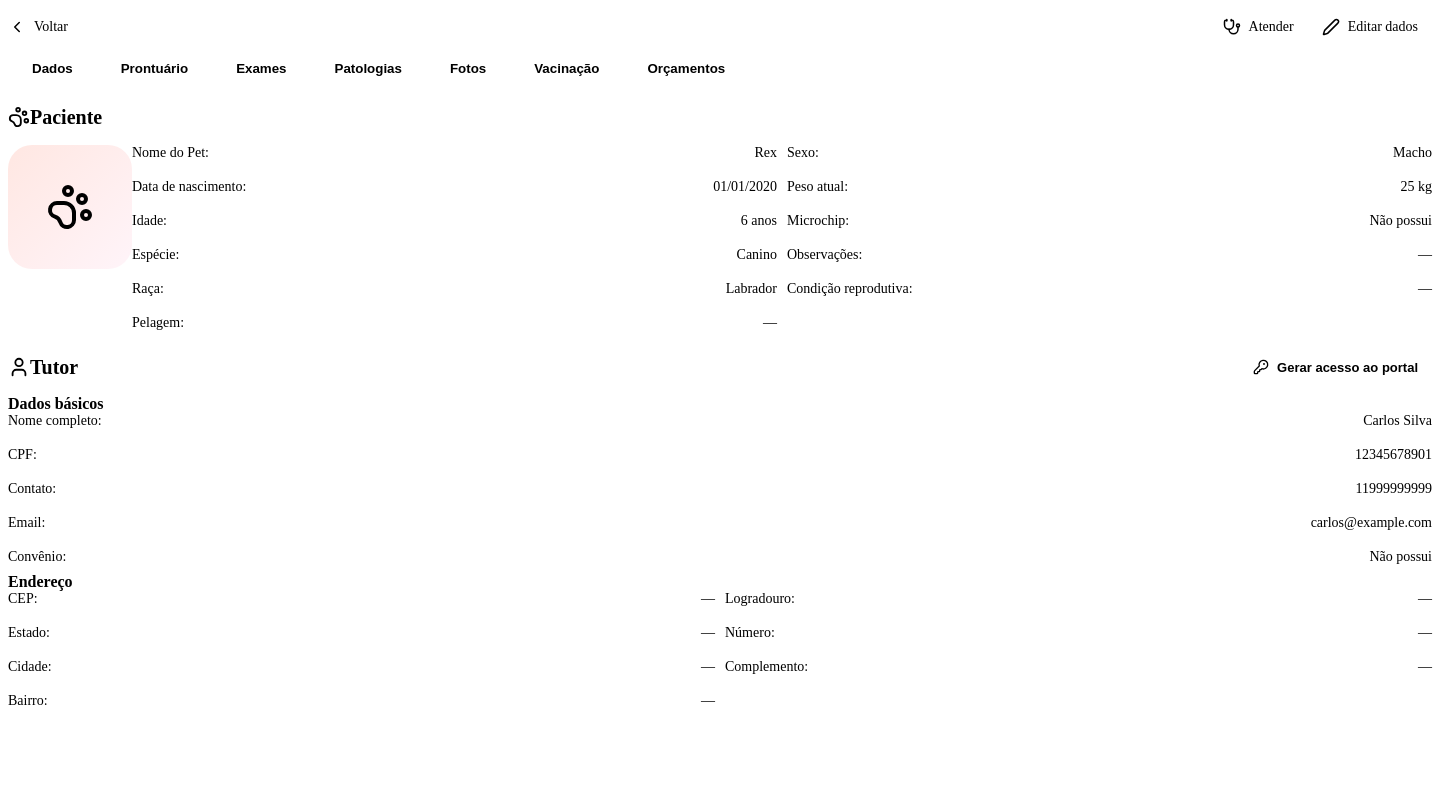
Test case: PatientDetailsPage — Aba Exames e Classificação Clínica › filtra a lista de exames pelo tipo selecionado no dropdown
Expected: the text "Rex" is shown, [754,145,777,161]
// Click on "Exames" tab
Click the button "Exames".
click(261, 68)  # box [212,47,310,90]
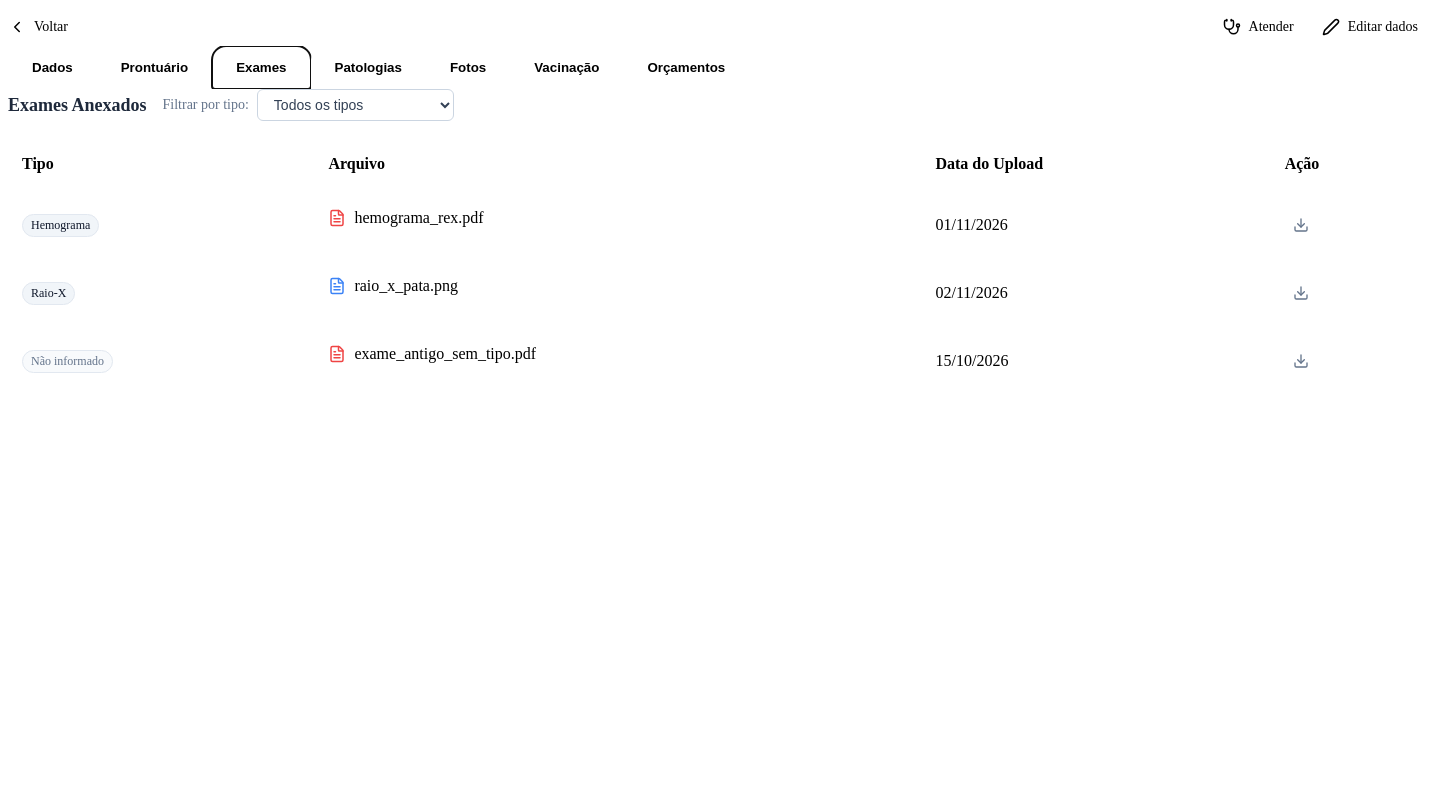
// Filter by HEMOGRAMA
Select "Hemograma" in the dropdown named "Filtrar por tipo de exame" at (355, 105), box [257,89,454,121]
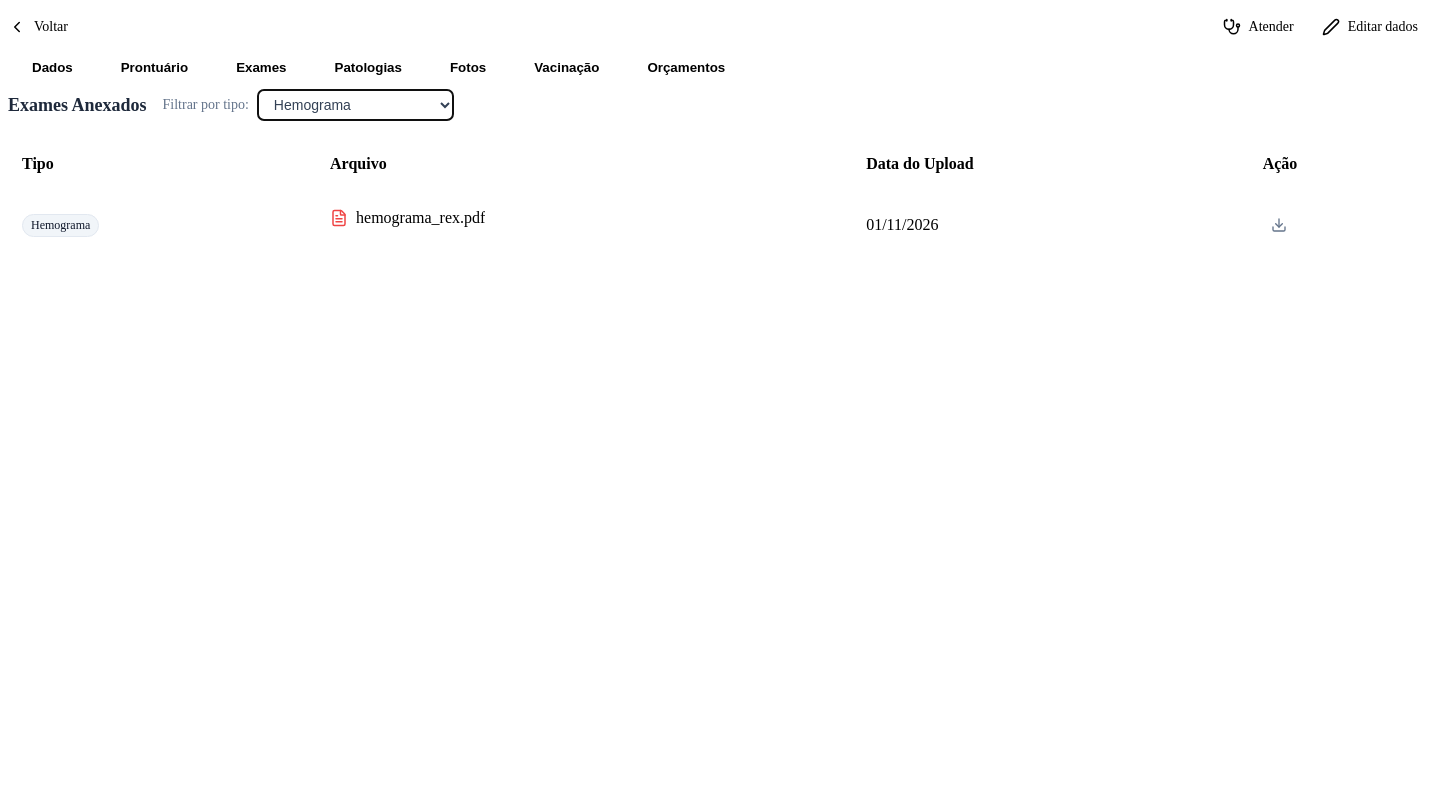
Result: the text "hemograma_rex.pdf" is shown at [356,209,485,227]
Result: the text "raio_x_pata.png" is gone
Result: the text "exame_antigo_sem_tipo.pdf" is gone
// Filter by RAIO_X
Select "Raio-X" in the dropdown named "Filtrar por tipo de exame" at (355, 105), box [257,89,454,121]
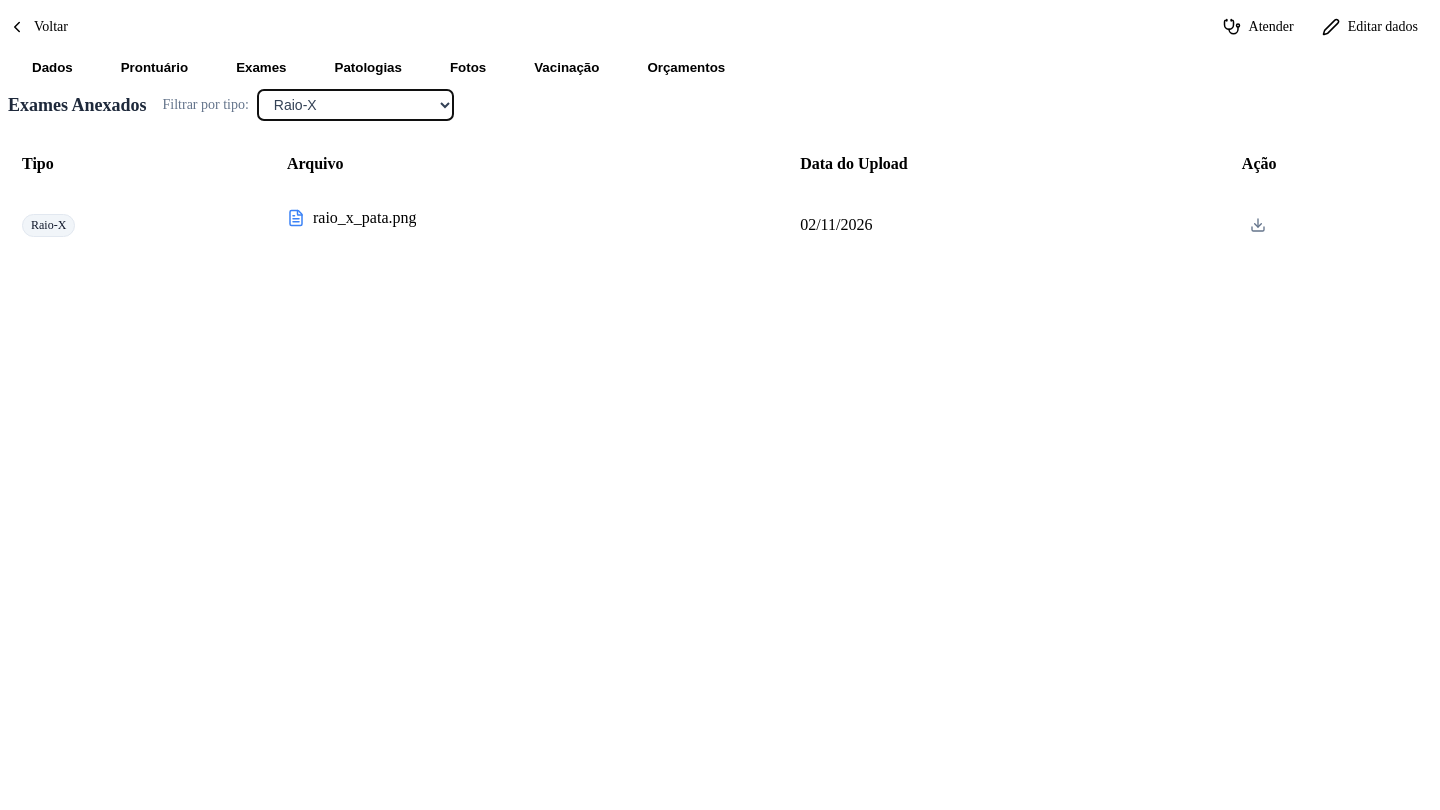
Expected: the text "exame_antigo_sem_tipo.pdf" is not shown
Result: the text "hemograma_rex.pdf" is gone
Result: the text "raio_x_pata.png" is shown at [313,209,416,227]
// Filter by UNSPECIFIED (legacy without type)
Select "Não informado / Legado" in the dropdown named "Filtrar por tipo de exame" at (355, 105), box [257,89,454,121]
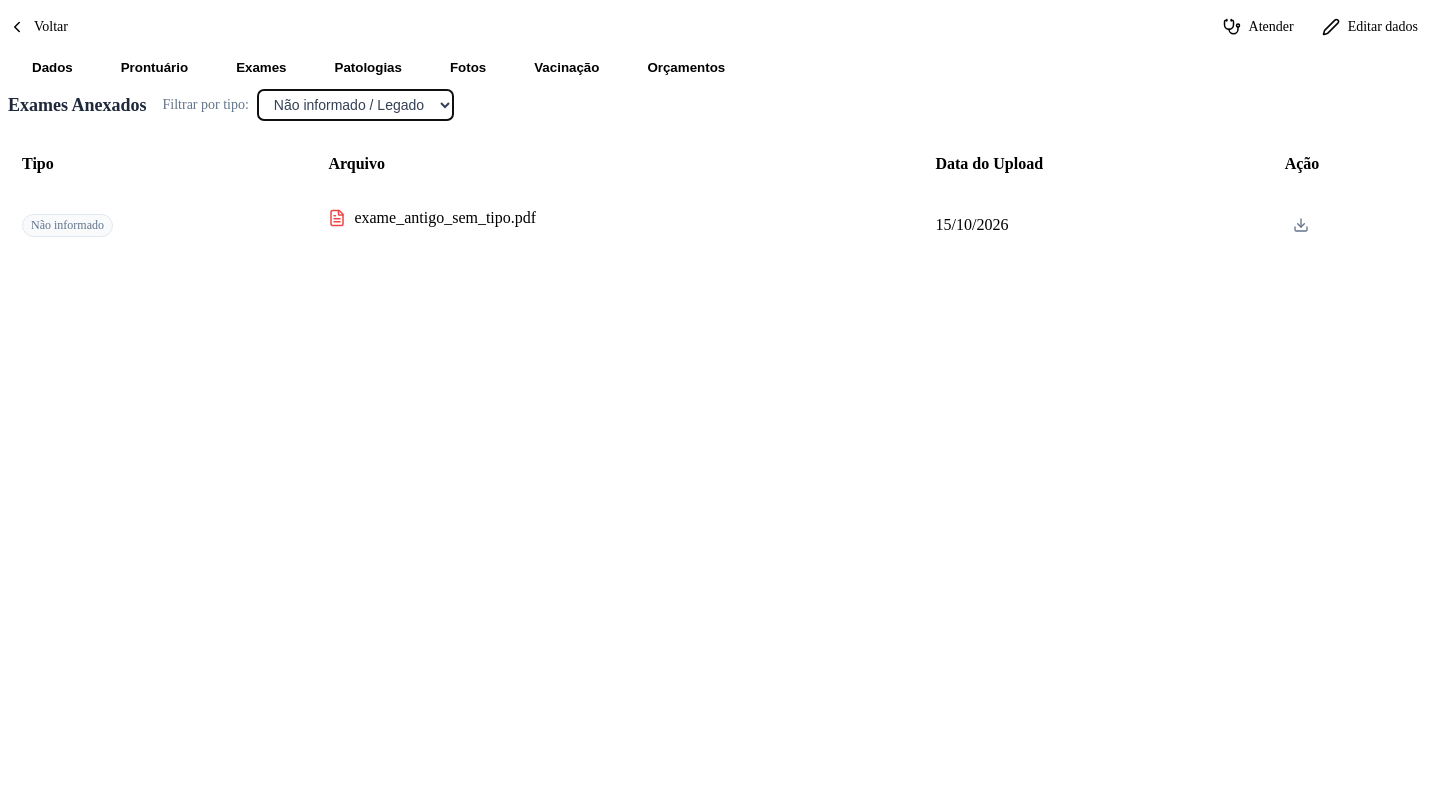
Expected: the text "hemograma_rex.pdf" is not shown
Result: the text "raio_x_pata.png" is gone
Result: the text "exame_antigo_sem_tipo.pdf" is shown at [354,209,536,227]
// Return to ALL
Select "Todos os tipos" in the dropdown named "Filtrar por tipo de exame" at (355, 105), box [257,89,454,121]
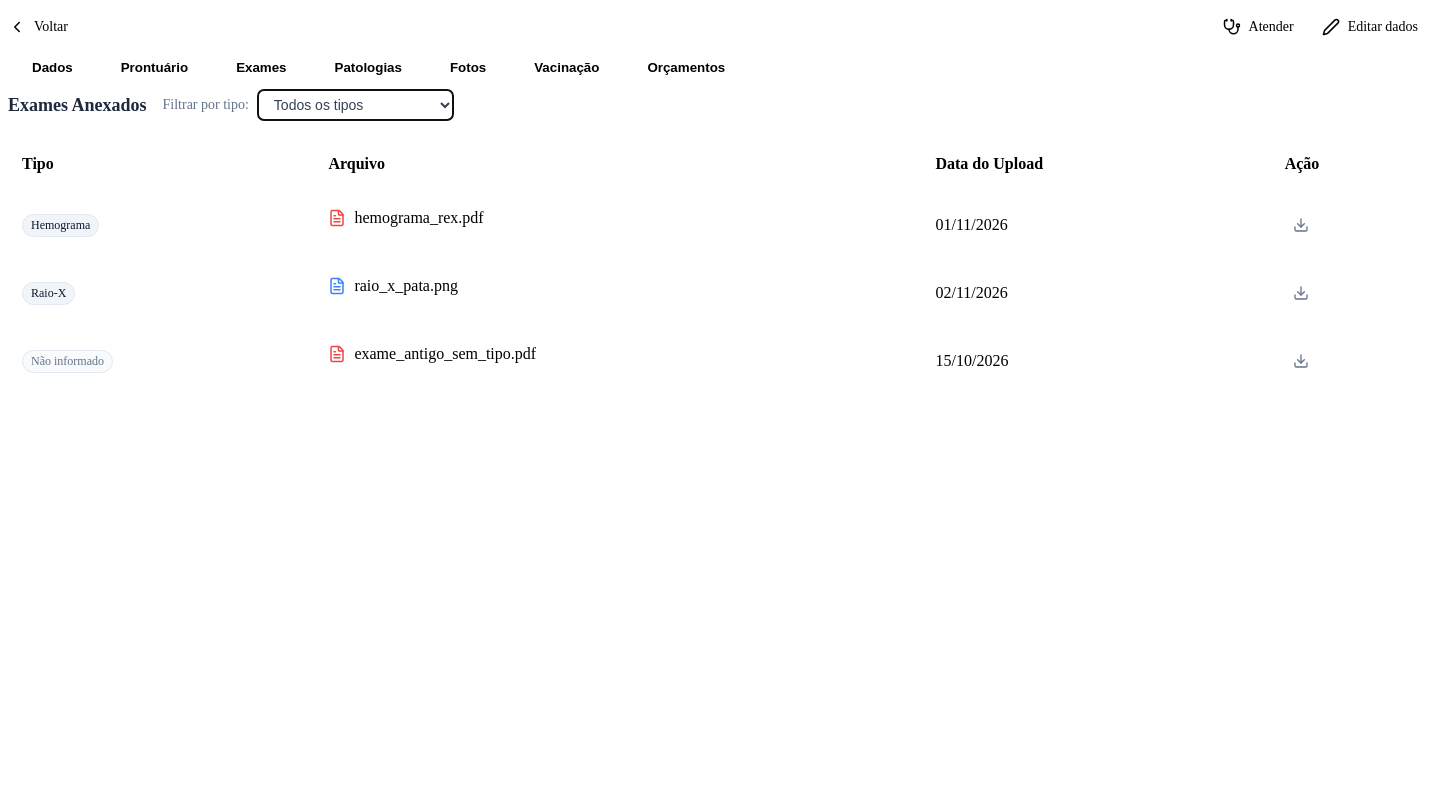
Result: the text "exame_antigo_sem_tipo.pdf" is shown at [354,345,536,363]
Result: the text "hemograma_rex.pdf" is shown at [354,209,484,227]
Result: the text "raio_x_pata.png" is shown at [354,277,458,295]
